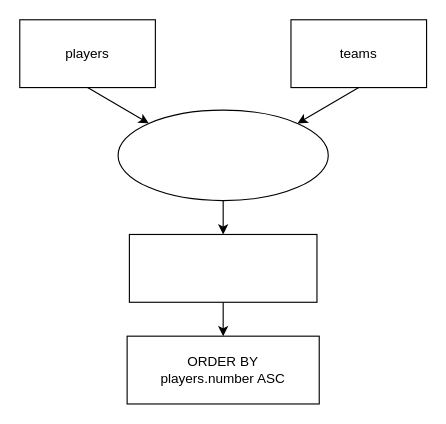
The diagram is 446 pixels wide and 424 high, and some of its shapes have lost their labels. Here are the shapes that lost their labels. From the top down, the centre of each, then its label:
At (x=222, y=155): "INNER JOIN players.team_id = teams.id".
At (x=222, y=267): "WHERE teams.name = 'BSC YB'".
